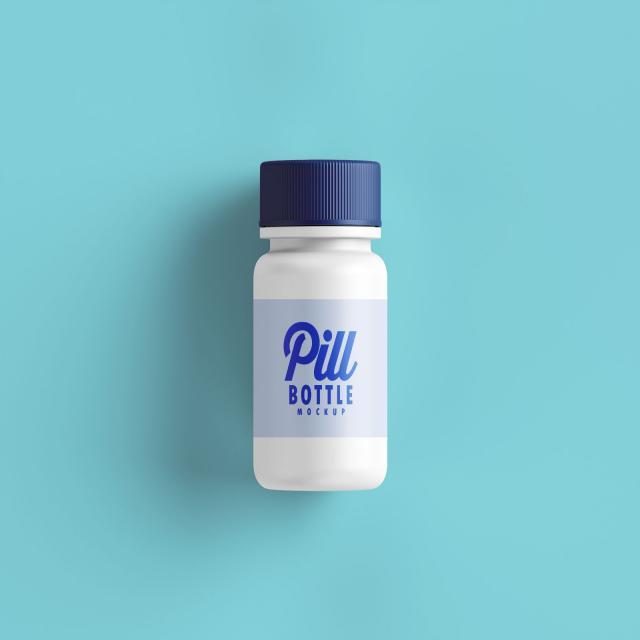jar: (251, 160, 389, 491)
